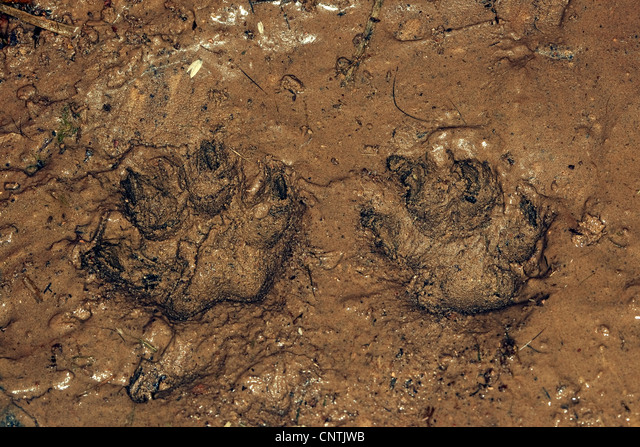raccoon: (66, 110, 324, 323), (363, 144, 567, 312)
